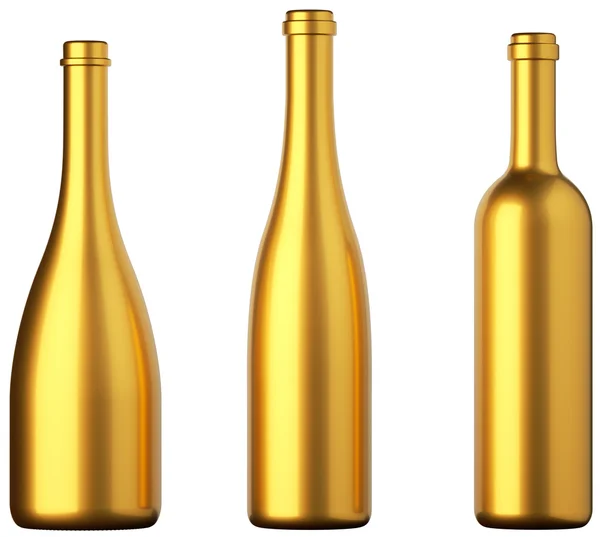glass_bottle: (3, 32, 174, 534), (236, 3, 386, 535), (465, 24, 600, 532)
